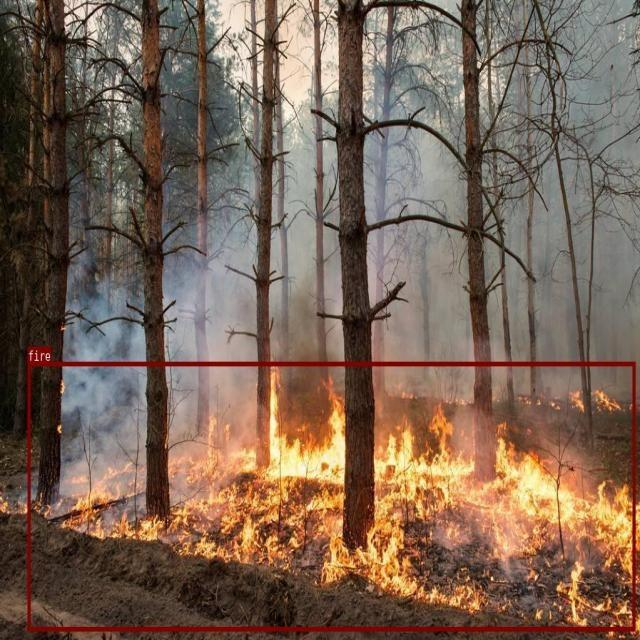fire: (27, 362, 635, 631)
